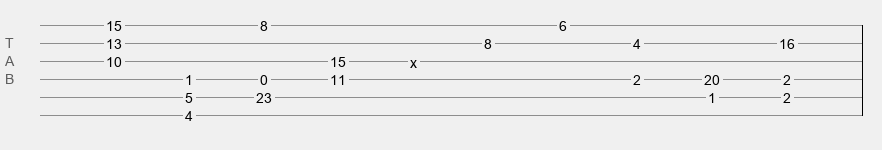0: (260, 72, 268, 82)
1: (185, 72, 193, 82), (708, 90, 716, 100)
10: (106, 54, 122, 64)
11: (330, 72, 346, 82)
13: (106, 36, 122, 46)
15: (106, 18, 122, 28), (330, 54, 346, 64)
16: (779, 36, 795, 46)
2: (633, 72, 641, 82), (783, 90, 791, 100), (783, 72, 791, 82)
20: (704, 72, 720, 82)
23: (256, 90, 272, 100)
4: (185, 108, 193, 118), (633, 36, 641, 46)
5: (185, 90, 193, 100)
6: (559, 18, 567, 28)
8: (260, 18, 268, 28), (484, 36, 492, 46)
x: (410, 55, 417, 63)
